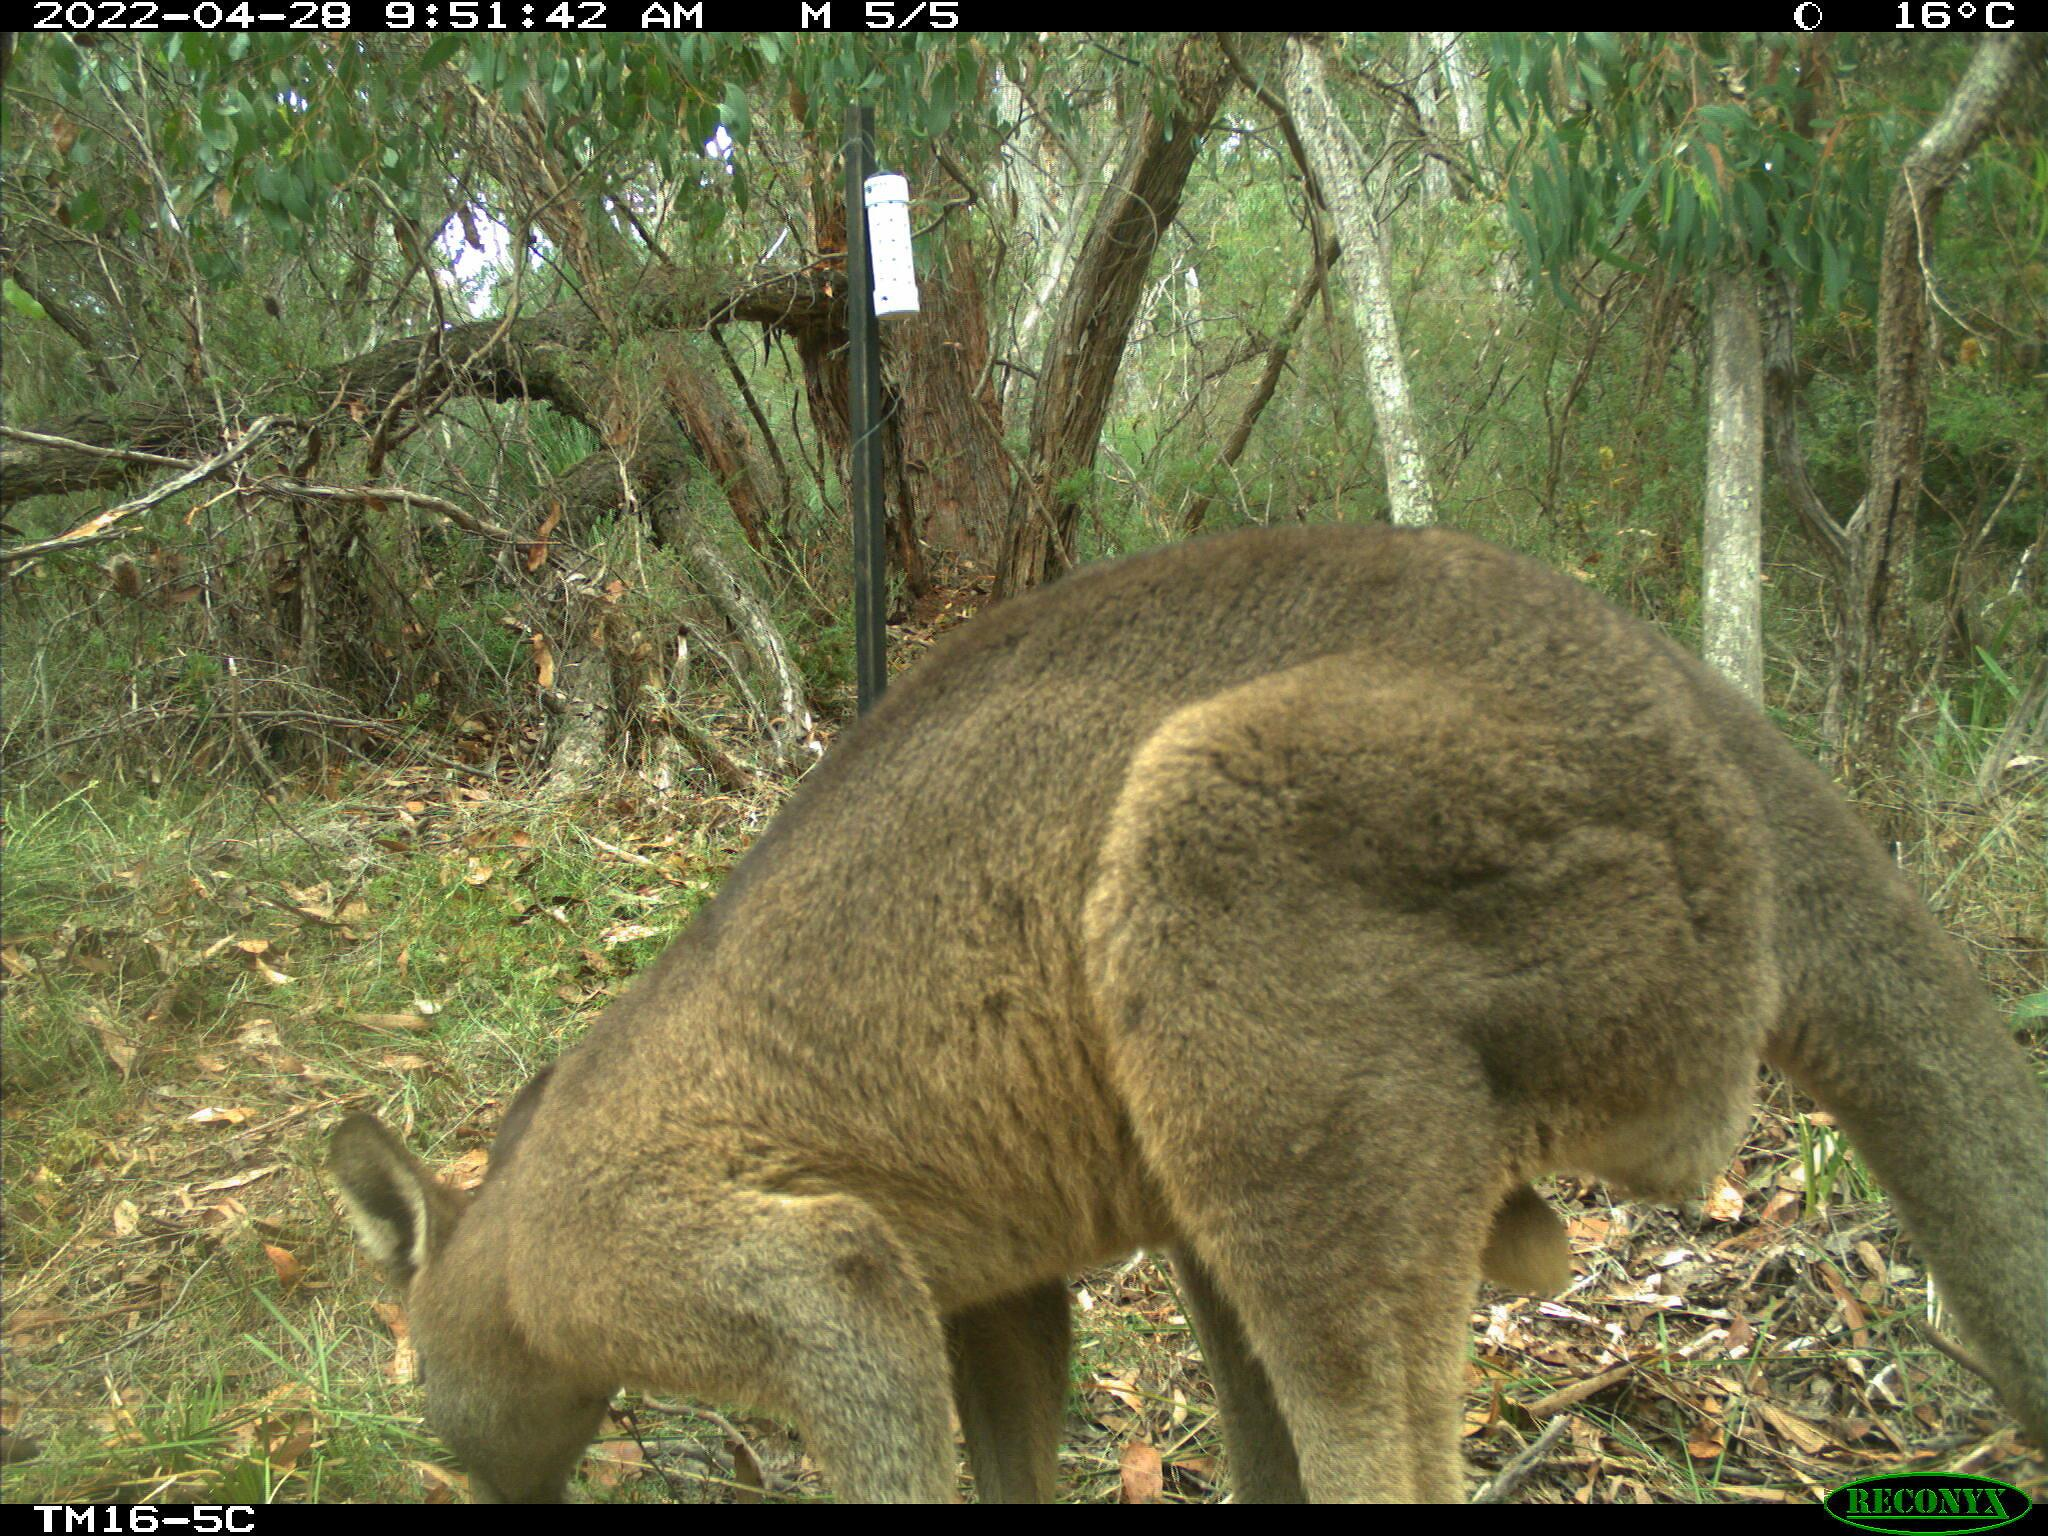Eastern grey kangaroo: (314, 510, 2048, 1484)
